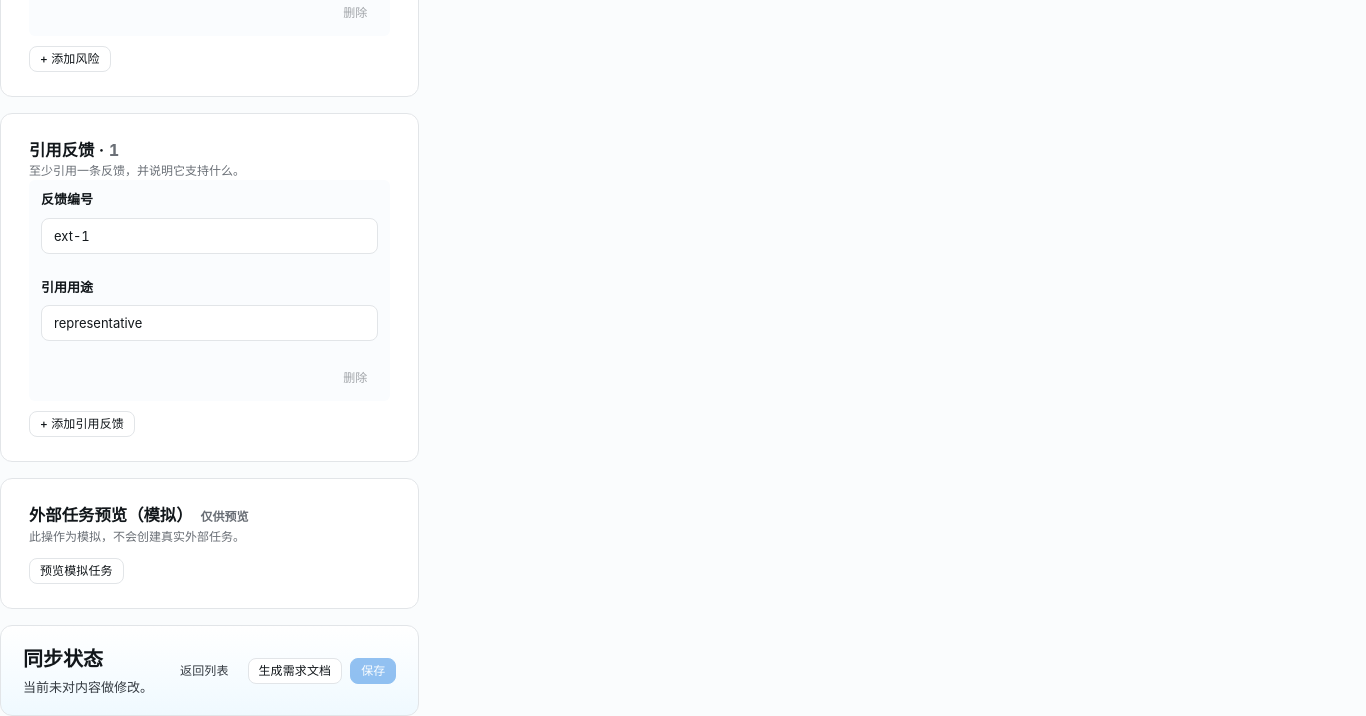
it: RequirementDetailPage — Phase 7 B2 › Re-Prepare → Approve surfaces SIM- external_id + simulated badge + no real link
(page scrolled)
Expected: the element with test id "tool-action-preview" is shown, x1=0 y1=478 x2=420 y2=609
# Prepare (first click).
Click the button with test id "tool-prepare" at (76, 571), box x1=29 y1=558 x2=124 y2=584
(page scrolled)
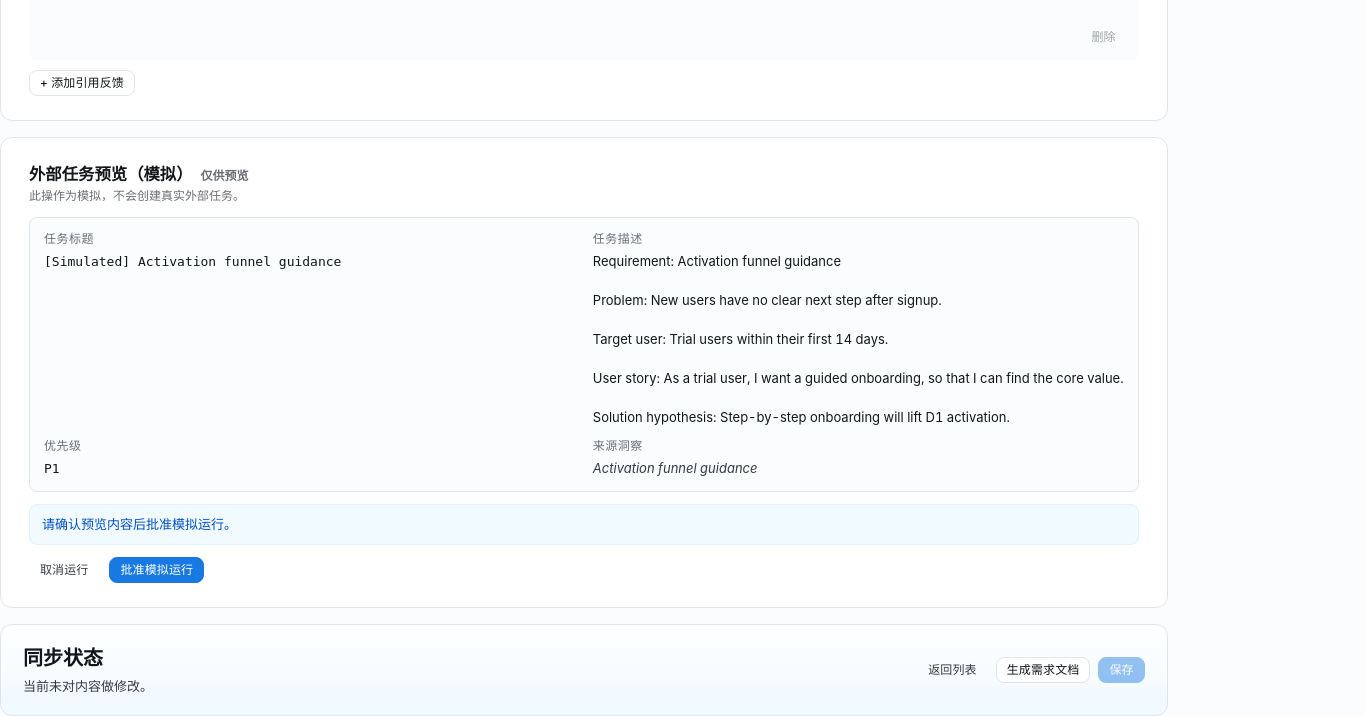
Expected: the element with test id "tool-action-awaiting-approval" is shown, x1=29 y1=217 x2=1139 y2=583
Click the button with test id "tool-approve" at (157, 570), box x1=110 y1=557 x2=204 y2=583
(page scrolled)
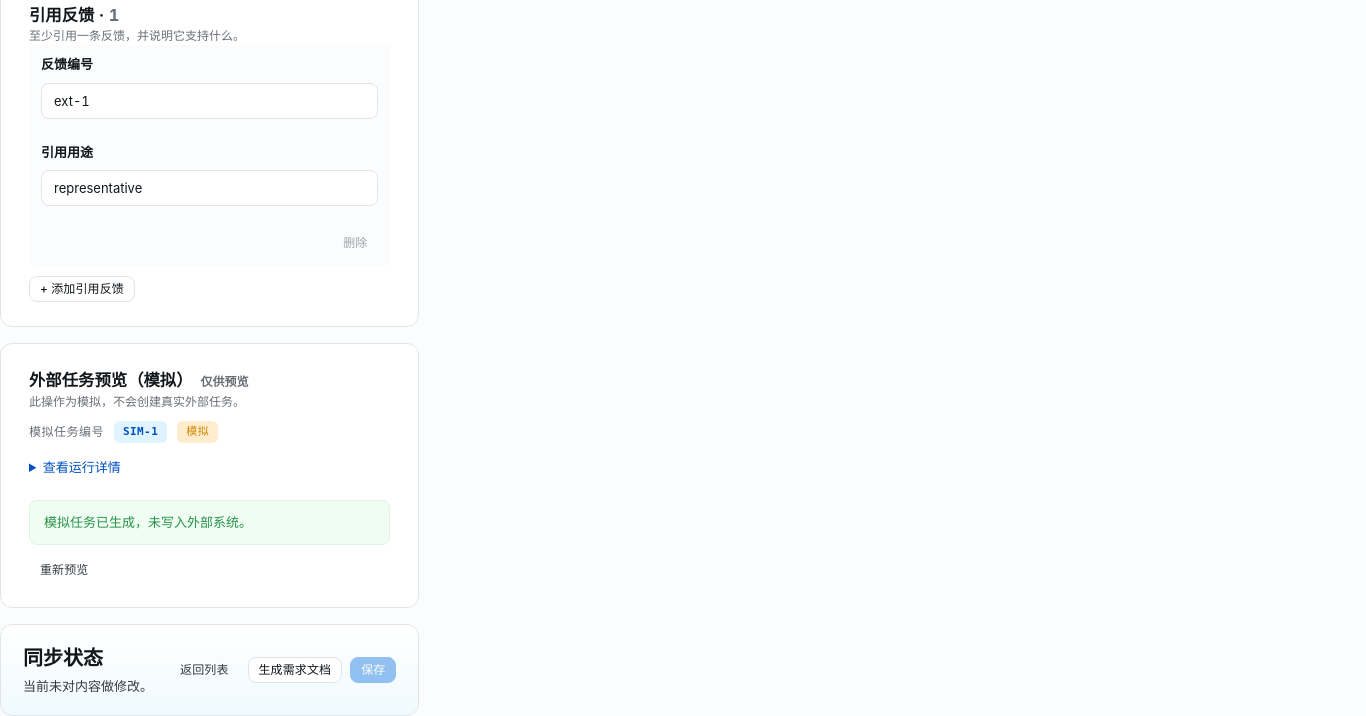
Expected: the element with test id "tool-action-completed" is shown, x1=29 y1=421 x2=390 y2=583
Expected: the text with test id "tool-external-id" reads "SIM-1", x1=123 y1=425 x2=158 y2=438
Expected: the text with test id "tool-simulated-tag" reads "模拟", x1=186 y1=425 x2=209 y2=438
